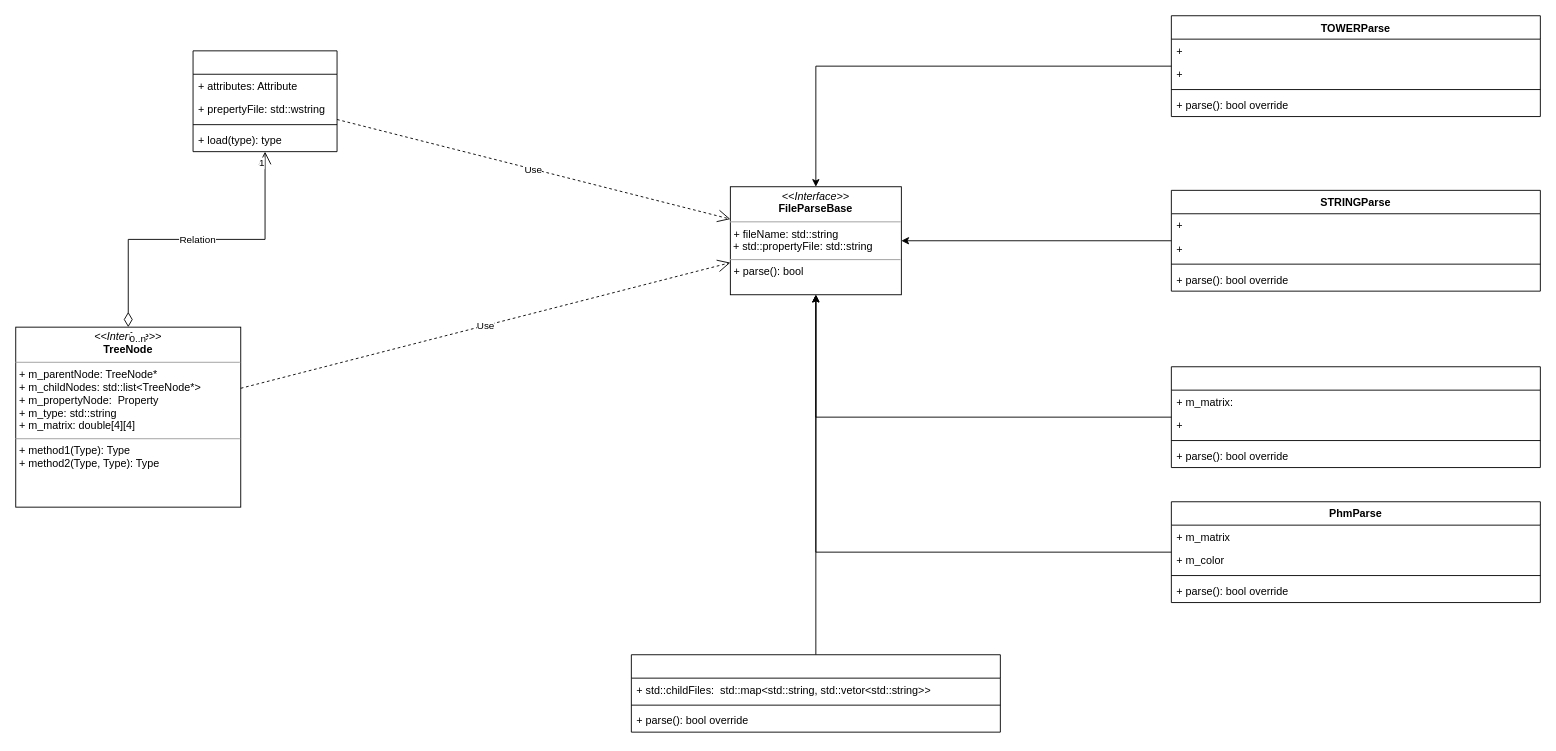
The diagram is 1556 pixels wide and 751 high, and some of its shapes have lost their labels. The box of each missing label's shape, as (x1, y1, x2, y2) in pixels:
DevParse: (1170, 366, 1540, 468)
FileSystemParse: (630, 654, 1000, 732)
Property: (192, 50, 337, 152)
